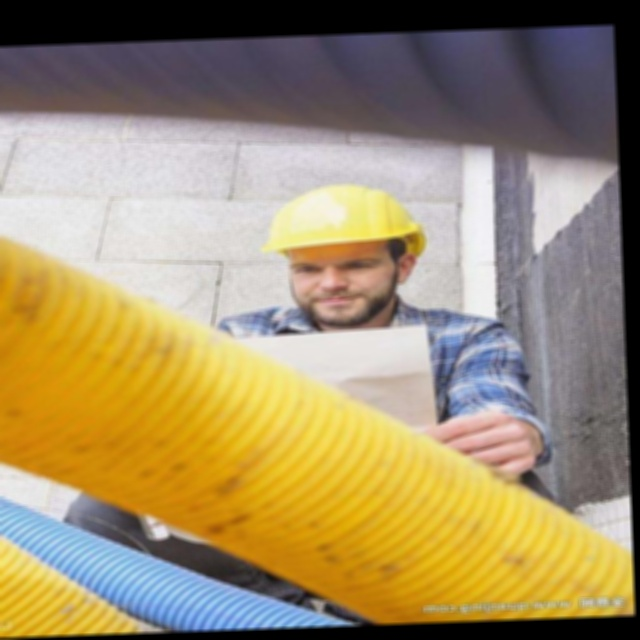Con_Casco: (257, 186, 422, 322)
